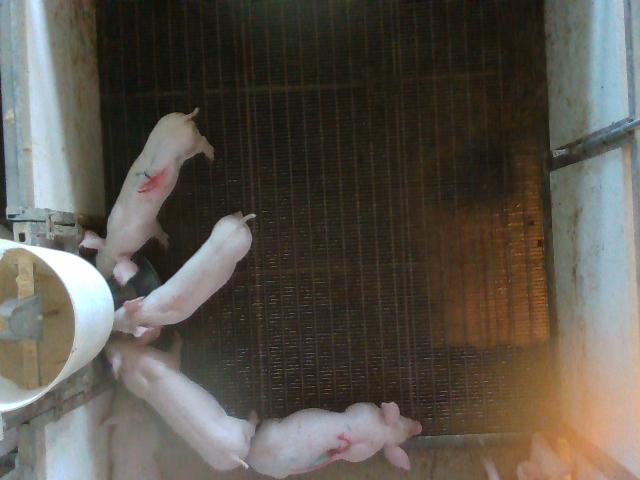pig-3: (246, 402, 421, 478)
pig-4: (80, 109, 214, 286)
